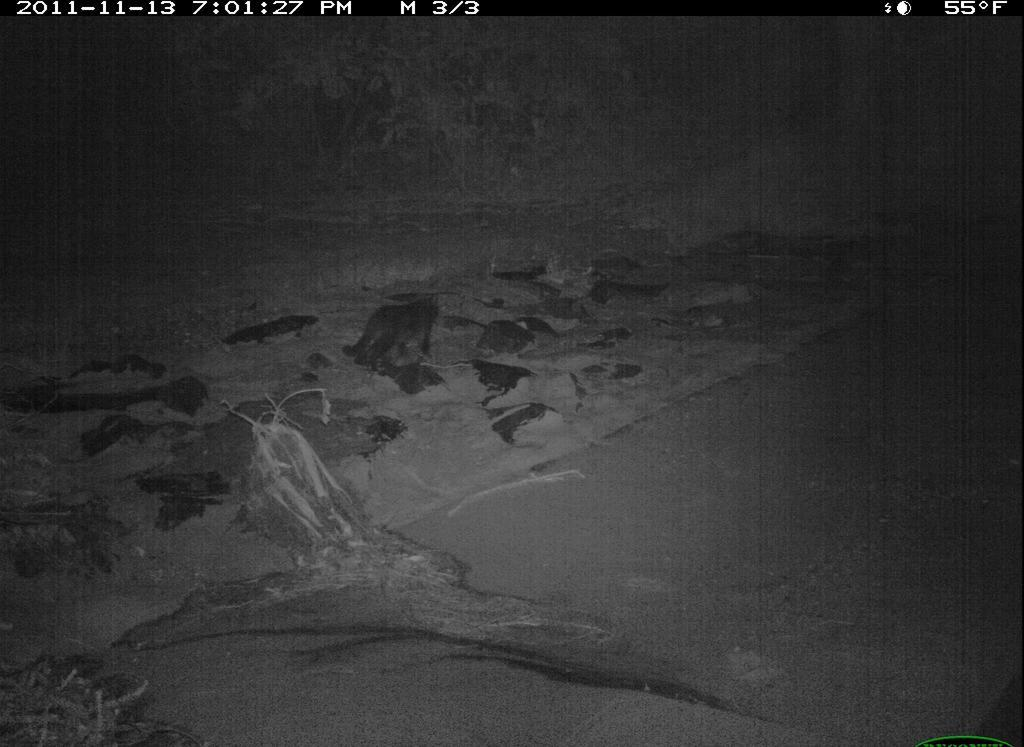cat: (338, 286, 457, 382)
